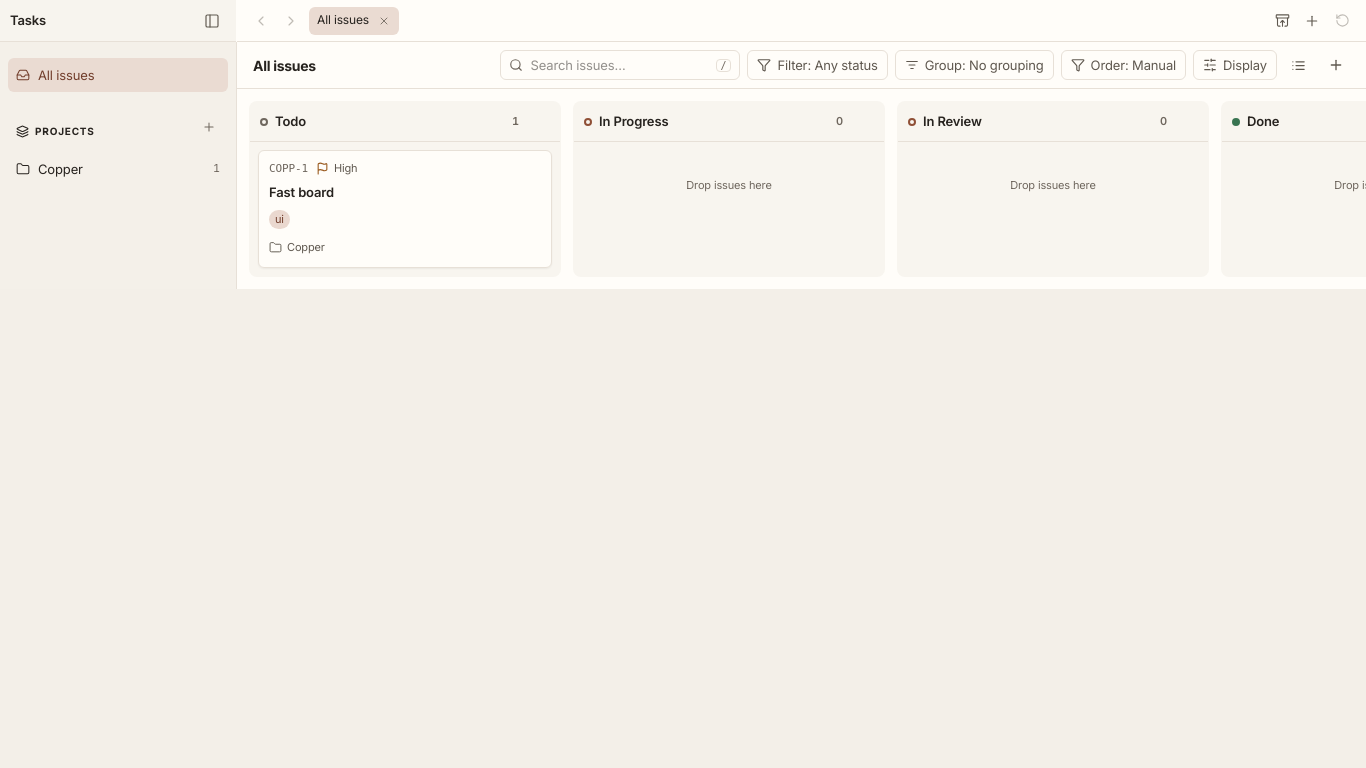
Test: keeps an archived source in place when an unsaved draft blocks restore
Click the button named "Archived items": [1282, 20] box left=1268, top=6, right=1296, bottom=34
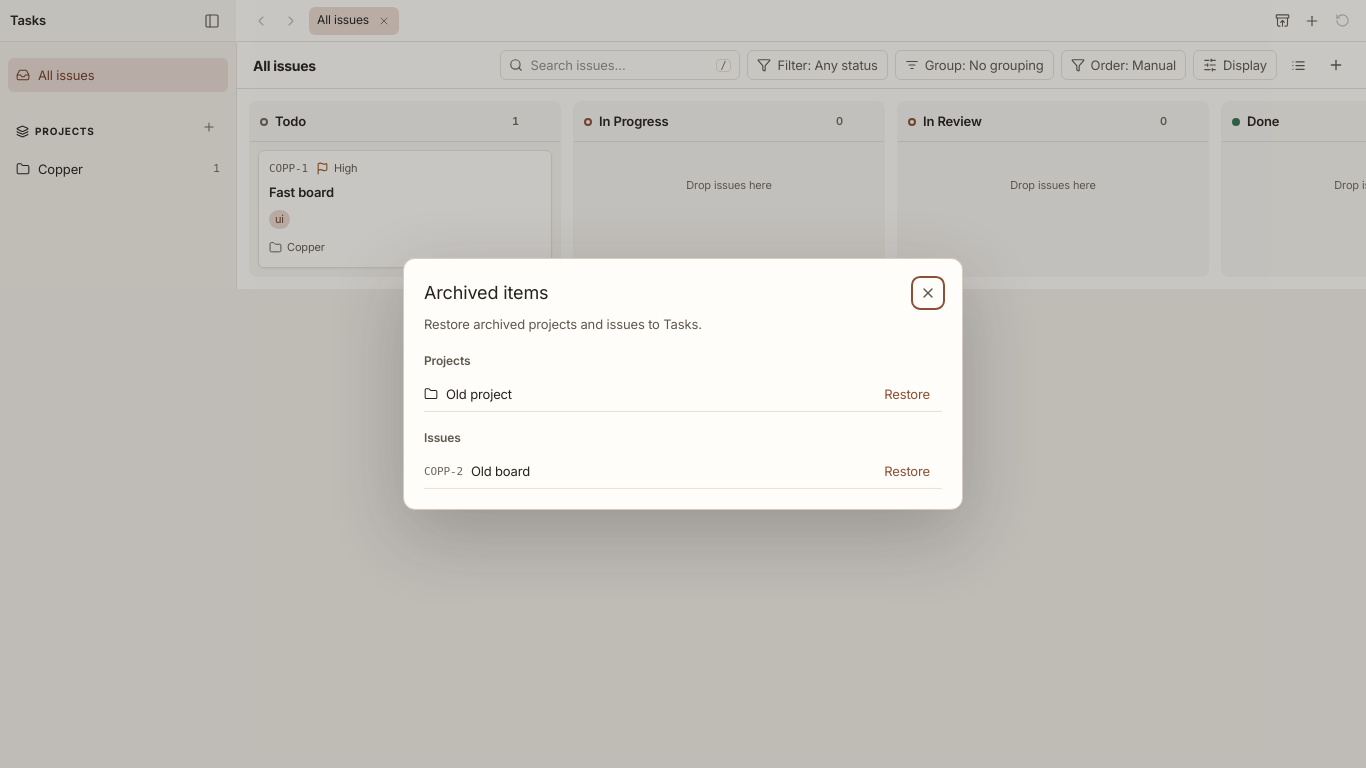
Click the button with aria-label "Restore COPP-2: Old board": [907, 471] box left=872, top=454, right=942, bottom=488
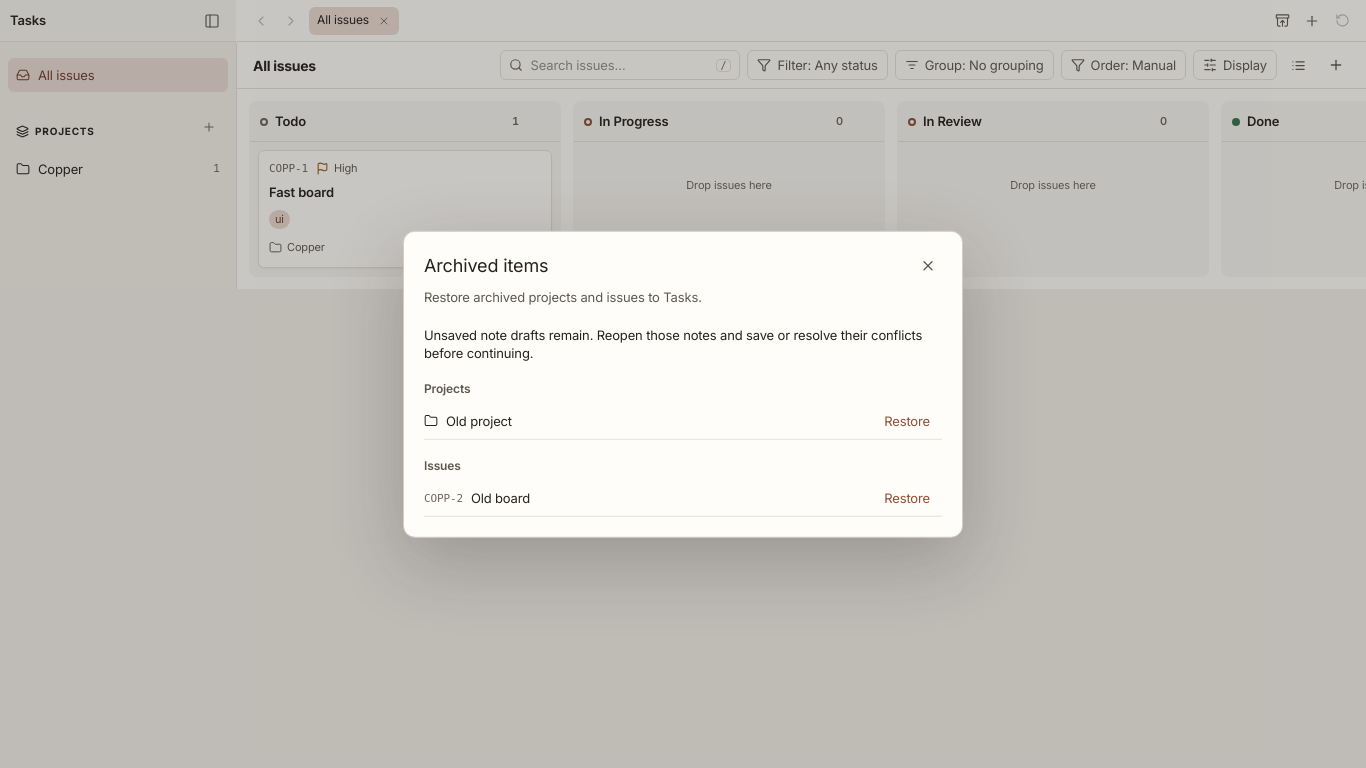
Expected: the text "Old board" is shown, left=471, top=490, right=530, bottom=506
Expected: the message shows "Unsaved note drafts remain. Reopen those notes and save or resolve their conflicts before continuing.", left=424, top=327, right=922, bottom=361
